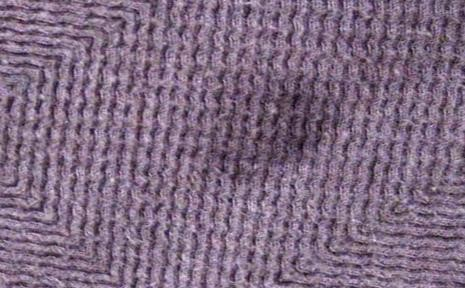stain: (201, 77, 343, 181)
